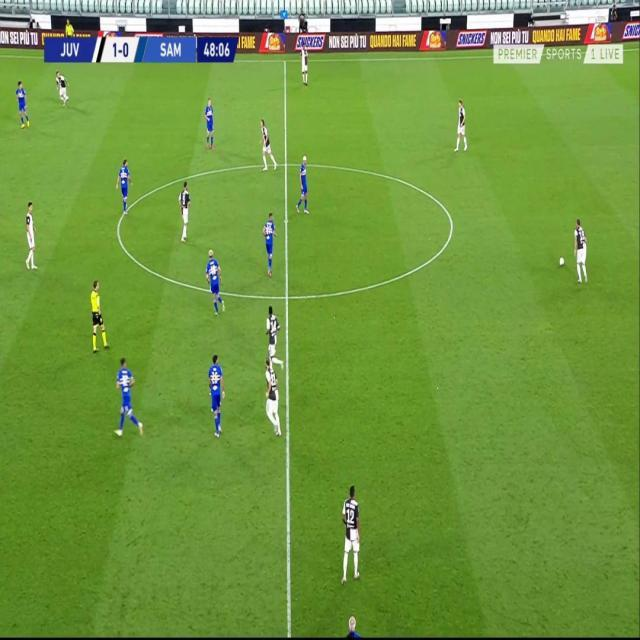ball: (559, 255, 566, 268)
player: (339, 480, 363, 585), (113, 356, 143, 440), (207, 350, 226, 438), (264, 356, 282, 439), (204, 247, 225, 318), (23, 199, 39, 273), (573, 217, 589, 287), (259, 117, 278, 173), (295, 153, 311, 218), (265, 305, 282, 366), (262, 212, 278, 276), (116, 158, 133, 215), (178, 181, 192, 243), (454, 98, 469, 153), (14, 79, 30, 128), (203, 97, 215, 151), (54, 69, 69, 106), (300, 45, 310, 86)
referee: (89, 277, 108, 352), (64, 18, 75, 39)
